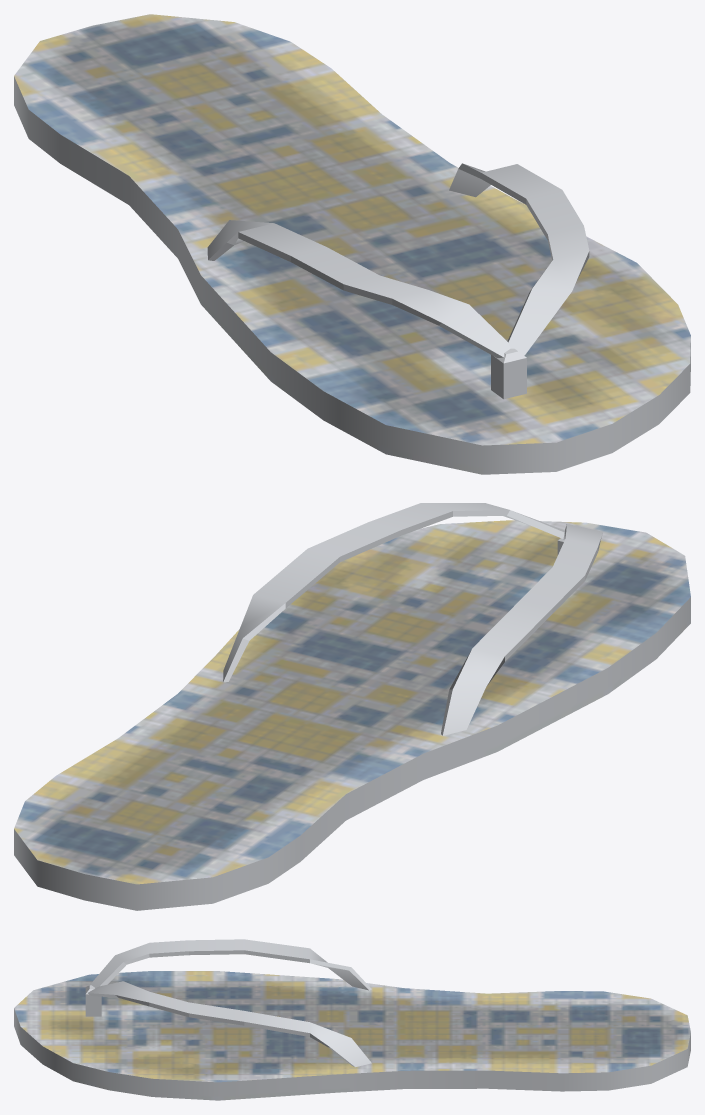
Rendered from p6_beach_sandals_06_left_lod0.glb.
3 views of the same model, one above another, from view 1: azimuth 30°, elevation 25°; view 2: azimuth 150°, elevation 25°; view 3: azimuth 270°, elevation 25° (orthographic). The views are drawn at different scales.
Visible parts, largest first — view 1: surf0; view 2: surf0; view 3: surf0.
Boxes of the visible parts, x1=… form: surf0: x1=14, y1=14, x2=690, y2=474; surf0: x1=14, y1=503, x2=690, y2=910; surf0: x1=14, y1=939, x2=690, y2=1100.
Bounding box in the file's own units: 5.16 × 1.44 × 13.24.
